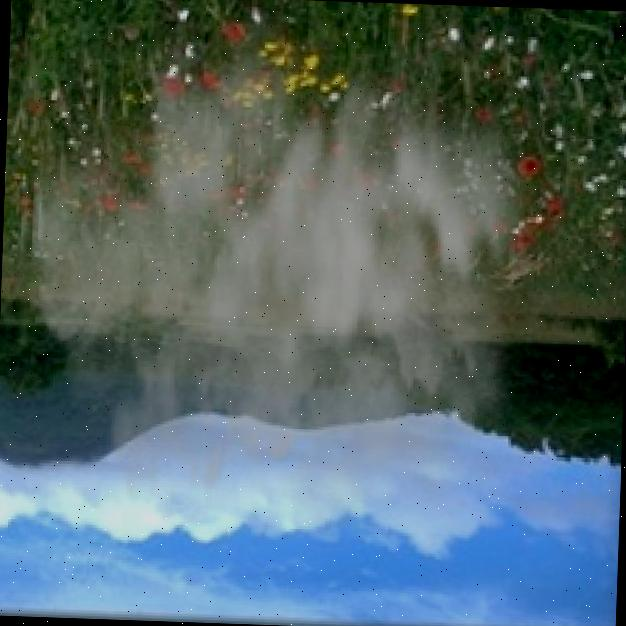smoke: (21, 13, 565, 566)
